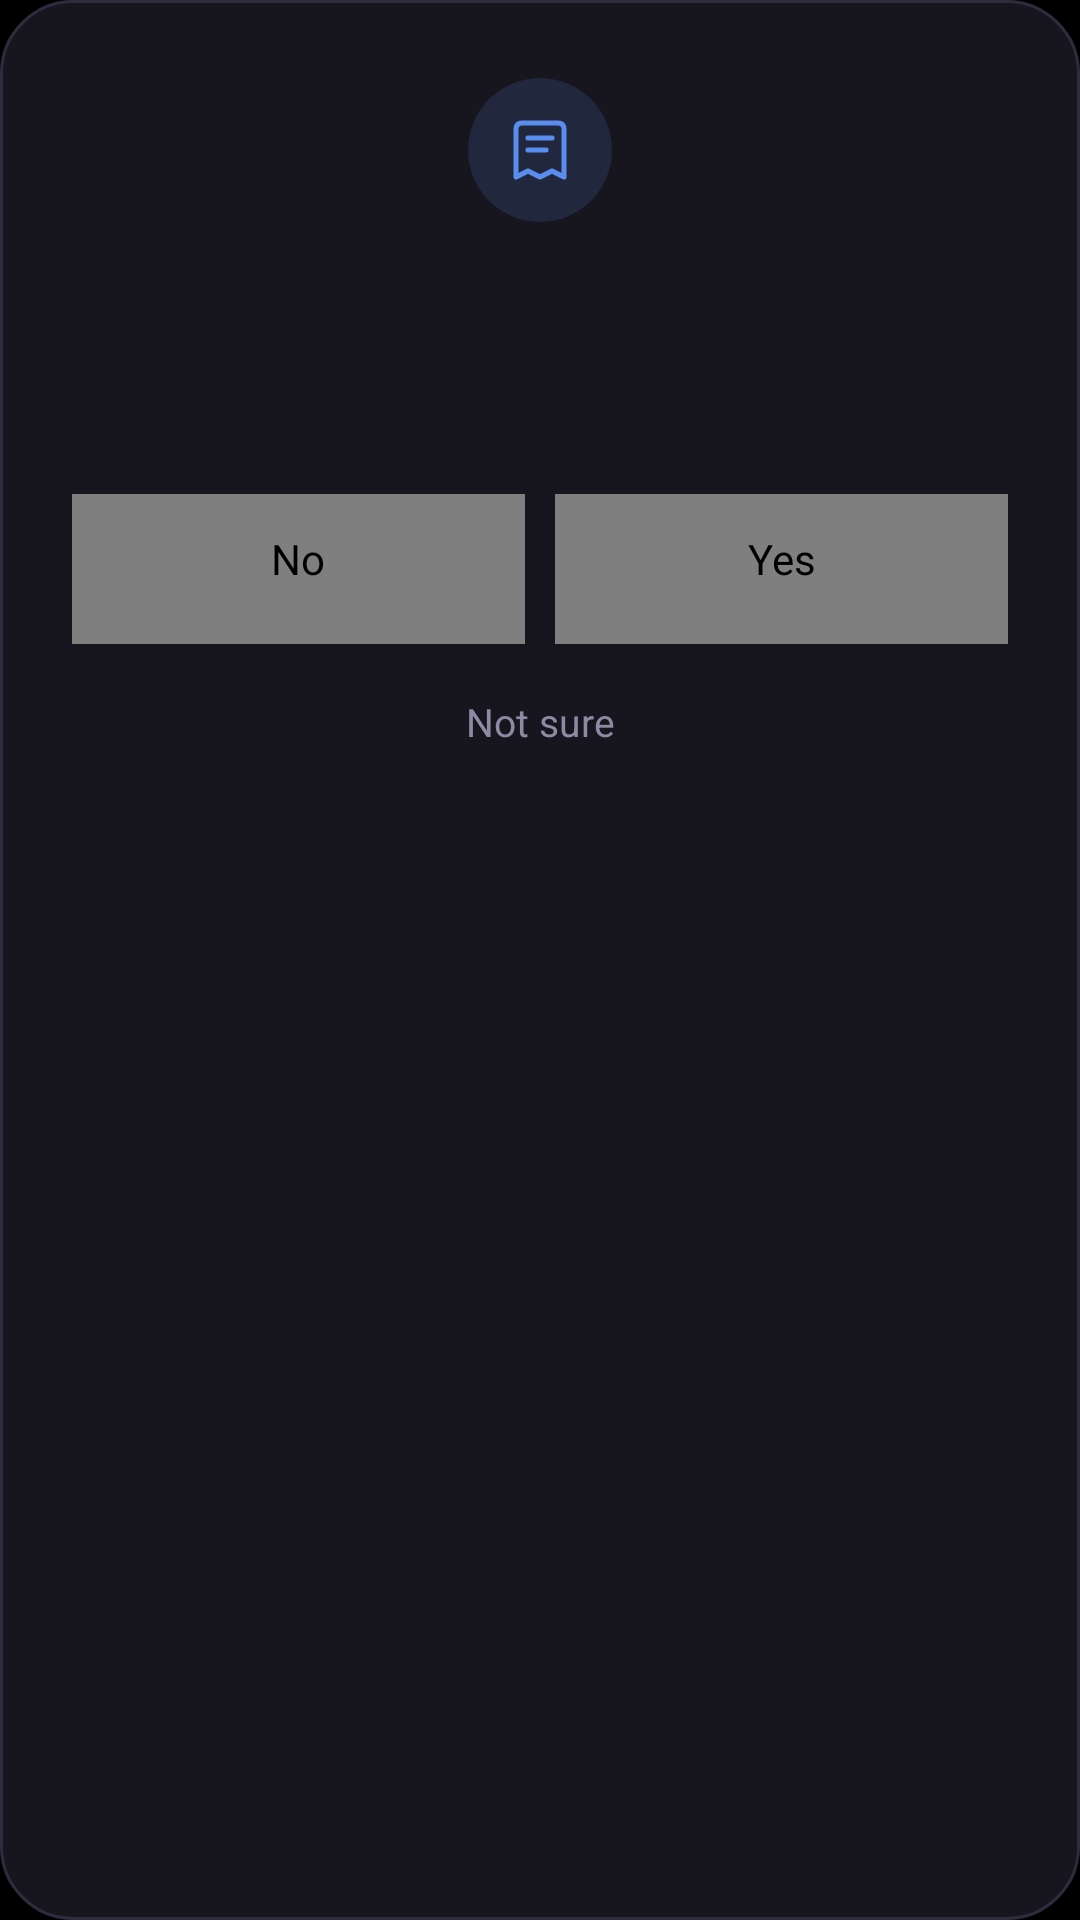

Icon click points for this 1080 x 1920 phone screenshot, format (x=x, y=y):
payment receipt: (x=540, y=150)
